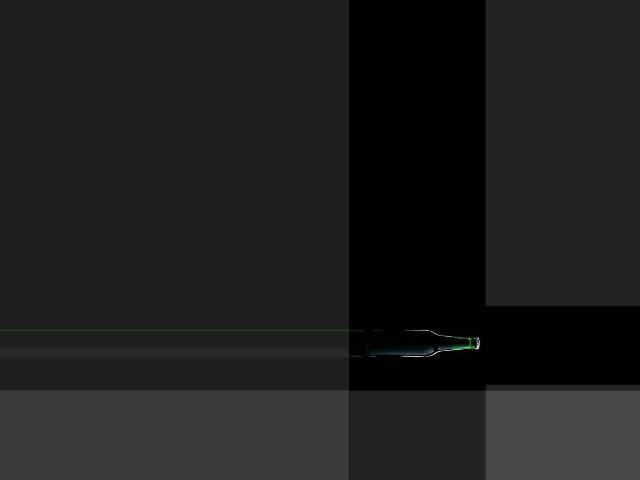beer: (367, 330, 480, 358)
